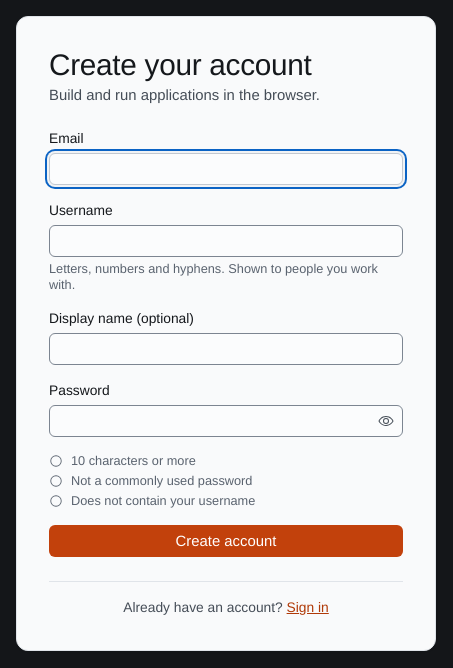
Test: RegisterPage › shows server validation errors against their fields
Type "ada@example.test" into the field labelled "Email" at x=226, y=169, box top-left (50, 154), bottom-right (402, 184)
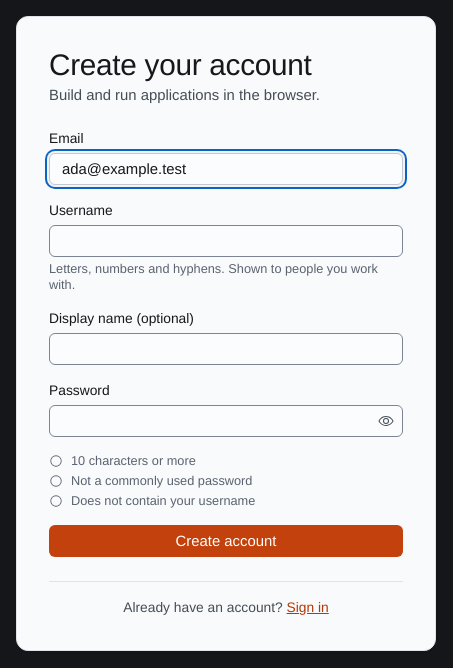
Type "ada-lovelace" into the field labelled "Username" at x=226, y=241, box top-left (50, 226), bottom-right (402, 256)
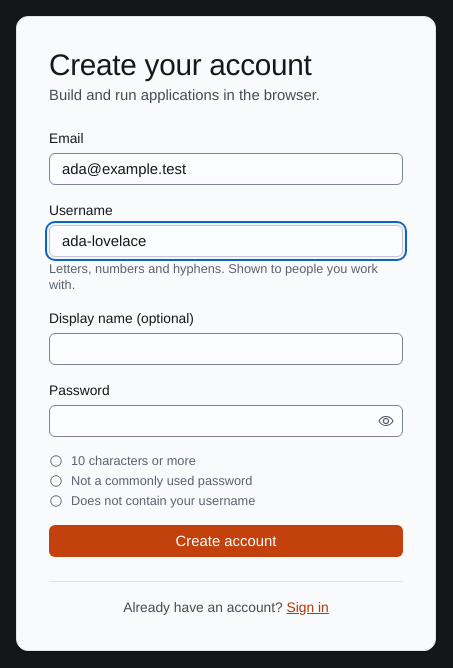
Type "analytical-engine-1843" into the password field labelled "Password" at x=212, y=421, box top-left (50, 406), bottom-right (374, 436)
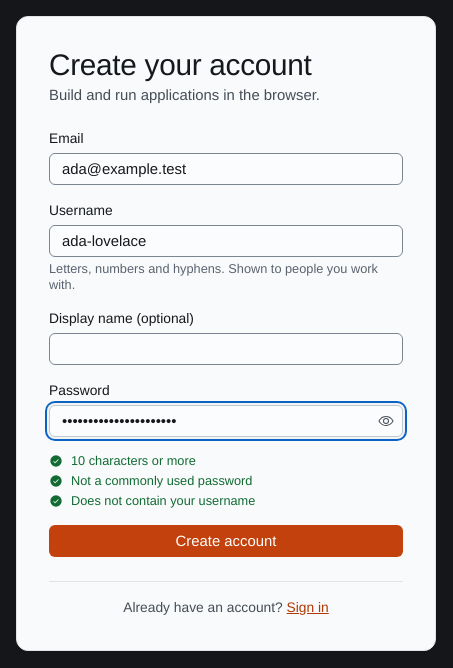
Click the button "Create account" at x=226, y=541, box top-left (49, 525), bottom-right (403, 557)
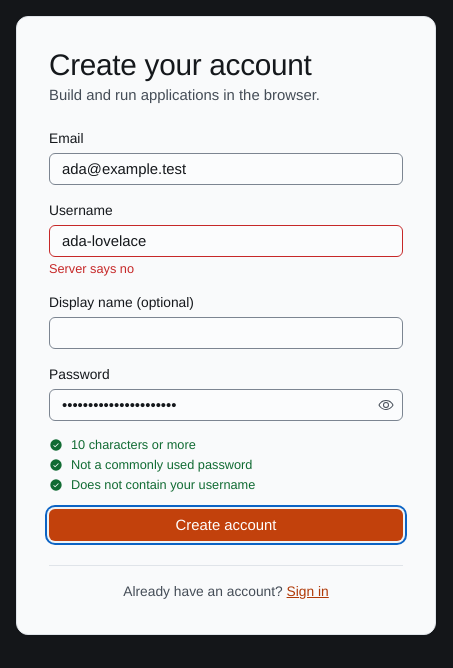
Expected: the text "Server says no" is shown, top-left (49, 261), bottom-right (134, 277)
